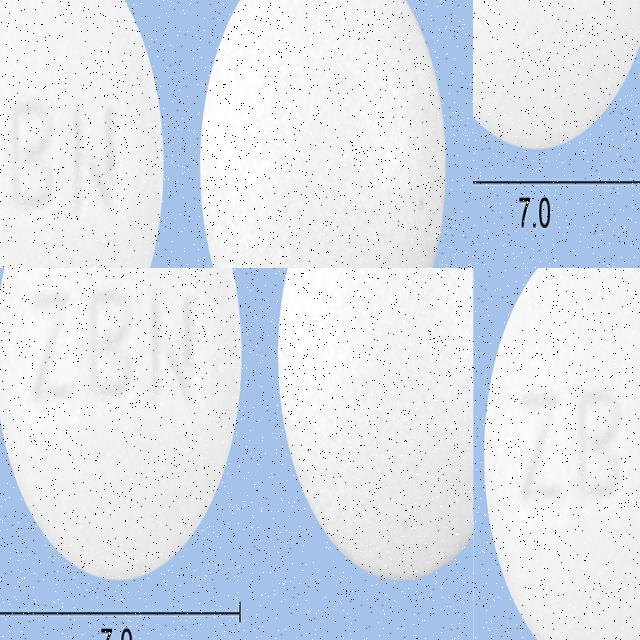Arava - 20mg: (483, 268, 640, 640)
Cirok: (198, 0, 454, 268), (0, 0, 168, 268)
Clacid: (0, 323, 292, 589), (264, 268, 473, 368)
Clithocin: (473, 0, 640, 151)
